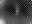person: (15, 5, 22, 17)
